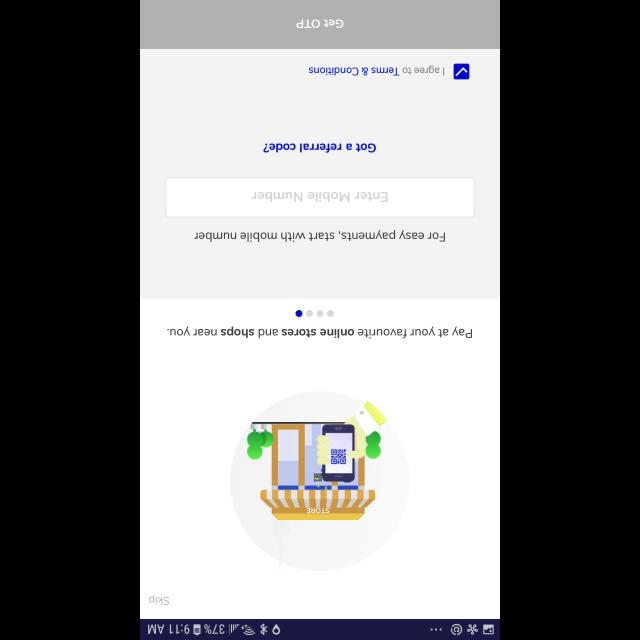checkbox: (454, 64, 470, 80)
image: (230, 390, 410, 570)
input: (164, 176, 476, 218)
pageindicator: (294, 310, 334, 318)
text: (168, 326, 472, 338), (193, 230, 444, 242), (308, 64, 444, 76), (251, 192, 387, 202), (264, 143, 376, 153), (149, 595, 169, 605)
textbutton: (141, 0, 500, 49)
uppertaskbar: (140, 618, 500, 640)
